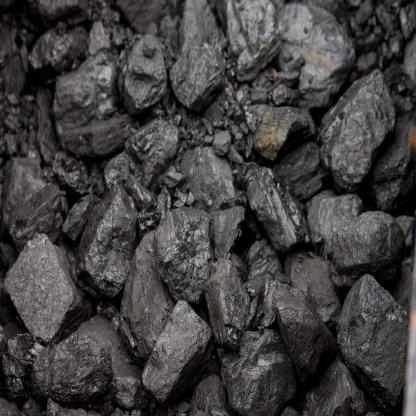Sedimentary_coal: (159, 150, 243, 291), (338, 274, 414, 410), (75, 176, 144, 299), (315, 72, 387, 183), (5, 230, 81, 332), (49, 55, 129, 151), (270, 251, 338, 352), (145, 307, 211, 401), (168, 7, 225, 114)
